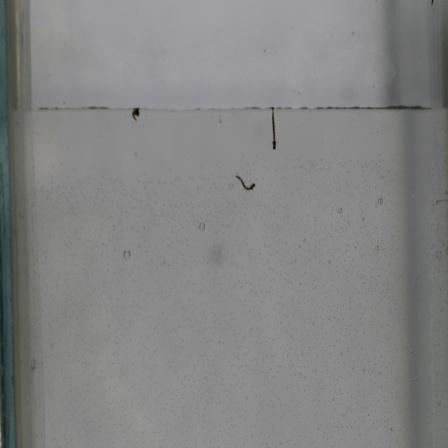Jentik-Nyamuk: (266, 106, 282, 154), (232, 170, 259, 195), (129, 103, 143, 120)
